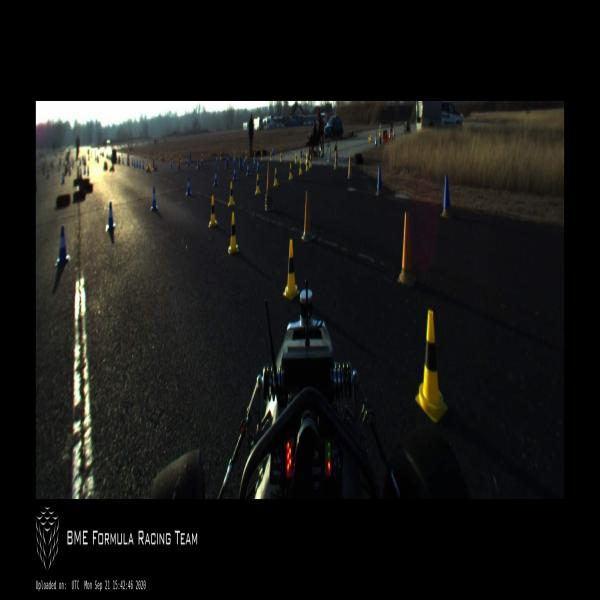blue_cone: (55, 226, 70, 268), (106, 201, 116, 232), (150, 188, 158, 212), (186, 177, 192, 197), (214, 170, 218, 187), (246, 163, 250, 176), (233, 167, 236, 181), (257, 159, 260, 171), (253, 158, 256, 169)
yellow_cone: (415, 310, 448, 424), (282, 238, 300, 300), (228, 212, 239, 255), (208, 195, 218, 227), (228, 182, 235, 207), (255, 173, 261, 195), (273, 167, 278, 187), (289, 163, 293, 180), (298, 160, 302, 176), (305, 152, 308, 166), (306, 159, 309, 171), (309, 155, 312, 167), (260, 151, 263, 161), (270, 150, 272, 162), (295, 153, 297, 164), (280, 152, 282, 162)
